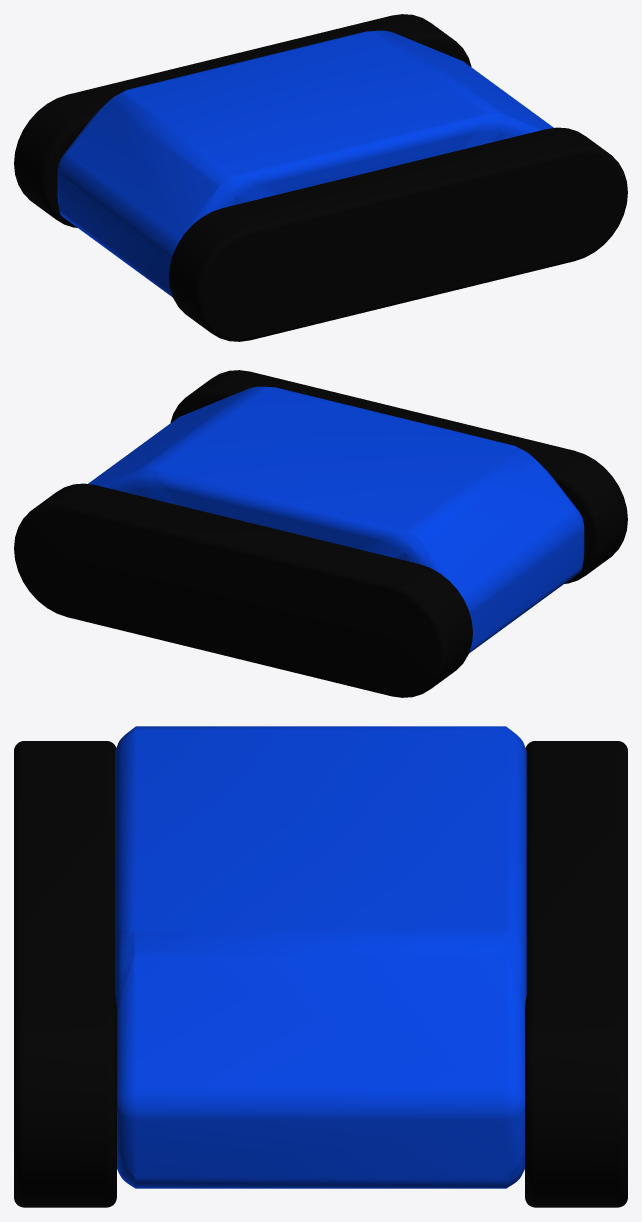
File: player_body.dae
3 views of the same model, one above another, from view 1: azimuth 30°, elevation 25°; view 2: azimuth 150°, elevation 25°; view 3: azimuth 270°, elevation 25° (orthographic). The views are drawn at different scales.
Parts seen in each view (by area): view 1: Tracks, Body; view 2: Tracks, Body; view 3: Body, Tracks.
Part boxes in pixels (box(x1,y1,x2,y2)): Tracks: box(14, 14, 627, 341); Body: box(57, 30, 553, 297); Tracks: box(14, 370, 627, 697); Body: box(88, 386, 584, 653); Body: box(115, 726, 526, 1188); Tracks: box(14, 741, 627, 1207).
Bounding box in the file's own units: 4 × 2.98 × 1.2.
